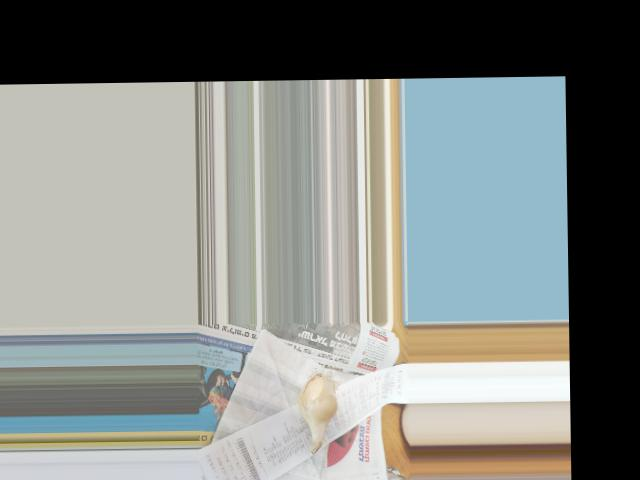onion: (299, 374, 334, 444)
